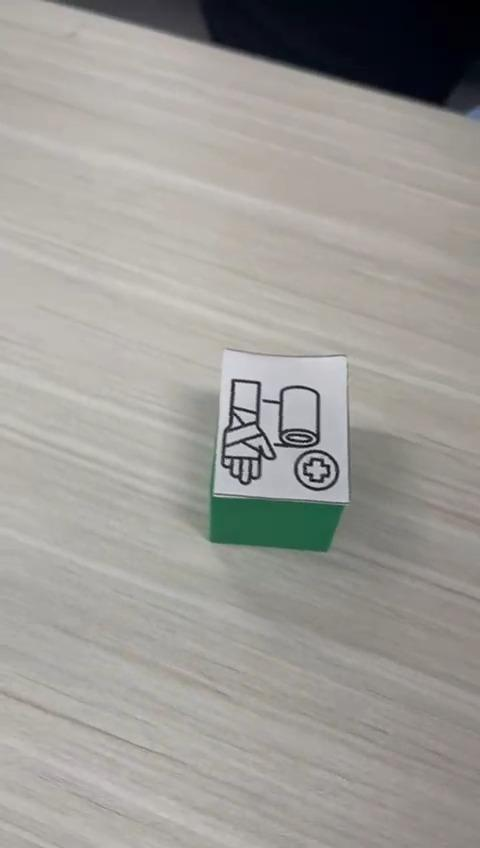Bandages: (210, 347, 349, 553)
